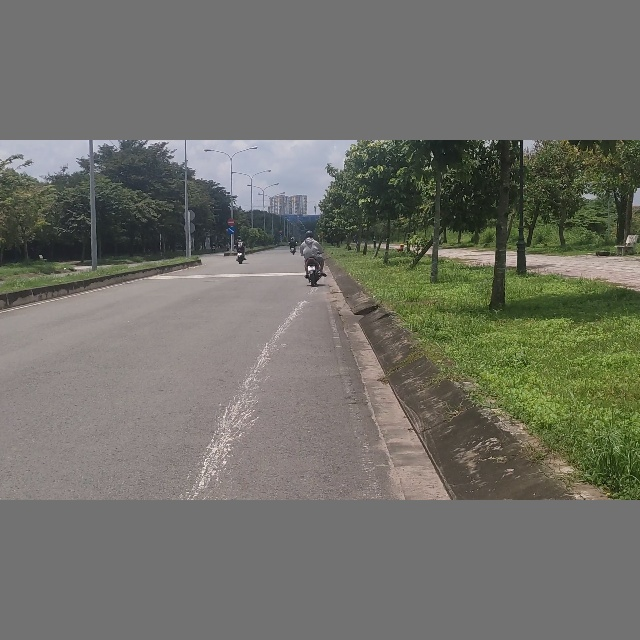P.102: (228, 218, 235, 226)
R.302a: (227, 227, 235, 234)
